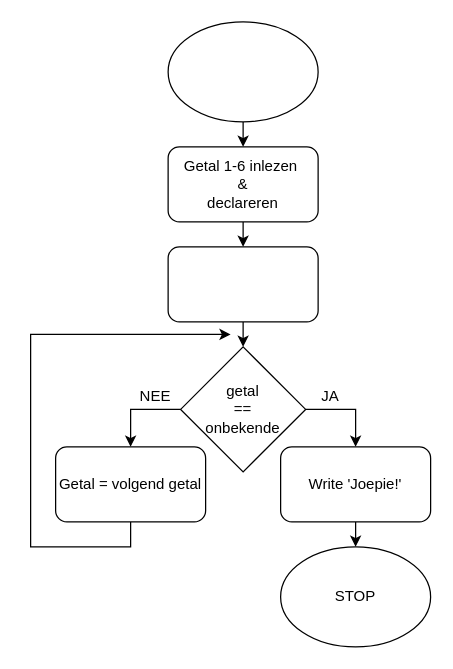
This 453x669 diagram has some shape labels left out. The centre of each missing label's shape, as x and y in pixels:
"onbekende = 16 getal = getal1" goes at point 242,284.
"START" goes at point 242,71.
